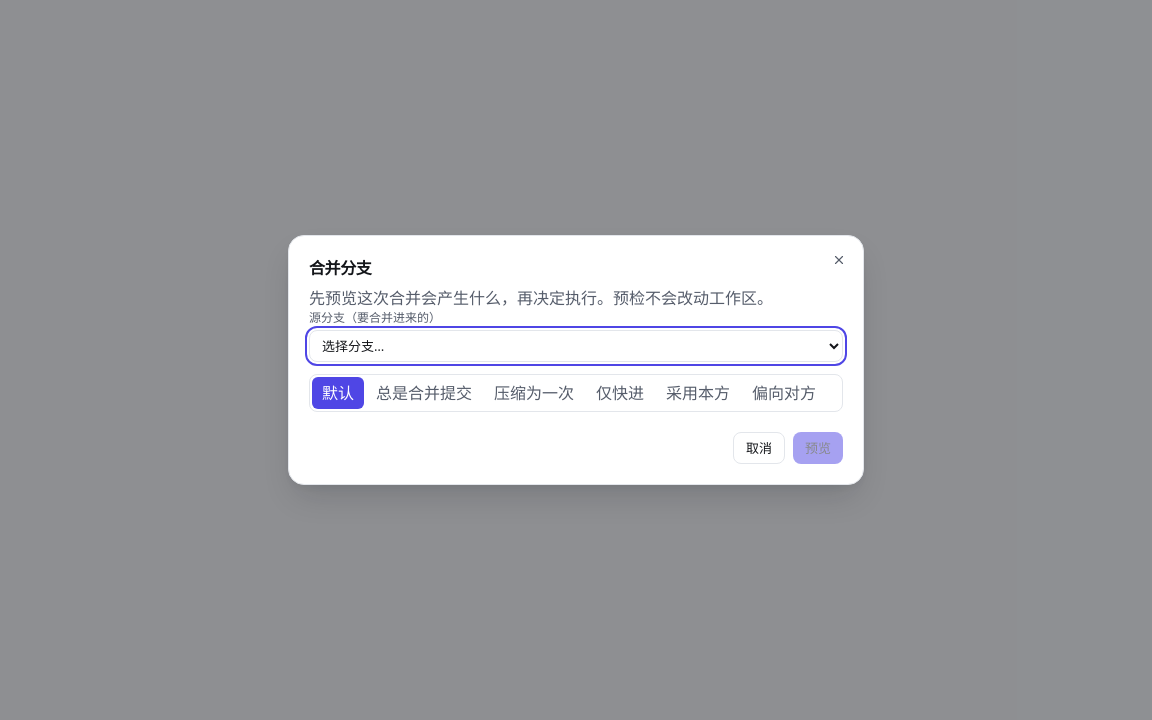
it: MergeDialog › git 太旧预检不可用时明示，不假装预检过
Step 1. Select "feature" in the dropdown with test id "merge-source" → (576, 346), box [309,330,843,362]
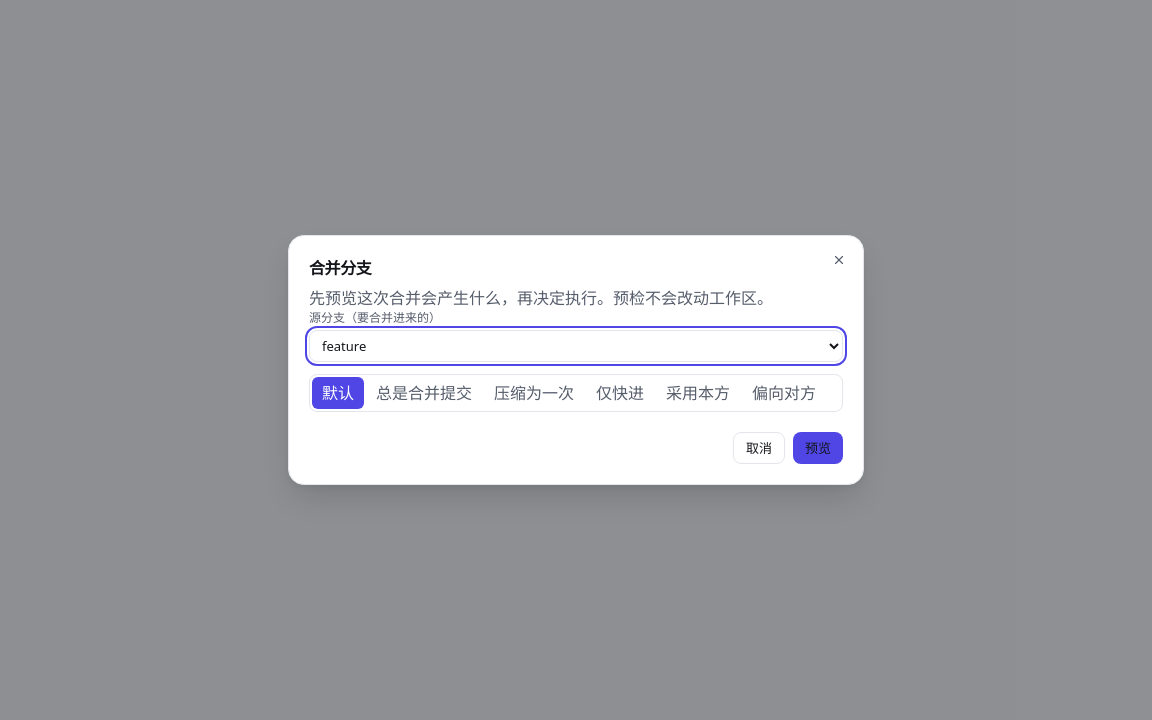
Step 2. Click the button with test id "merge-preview" → (818, 448), box [793,432,843,464]
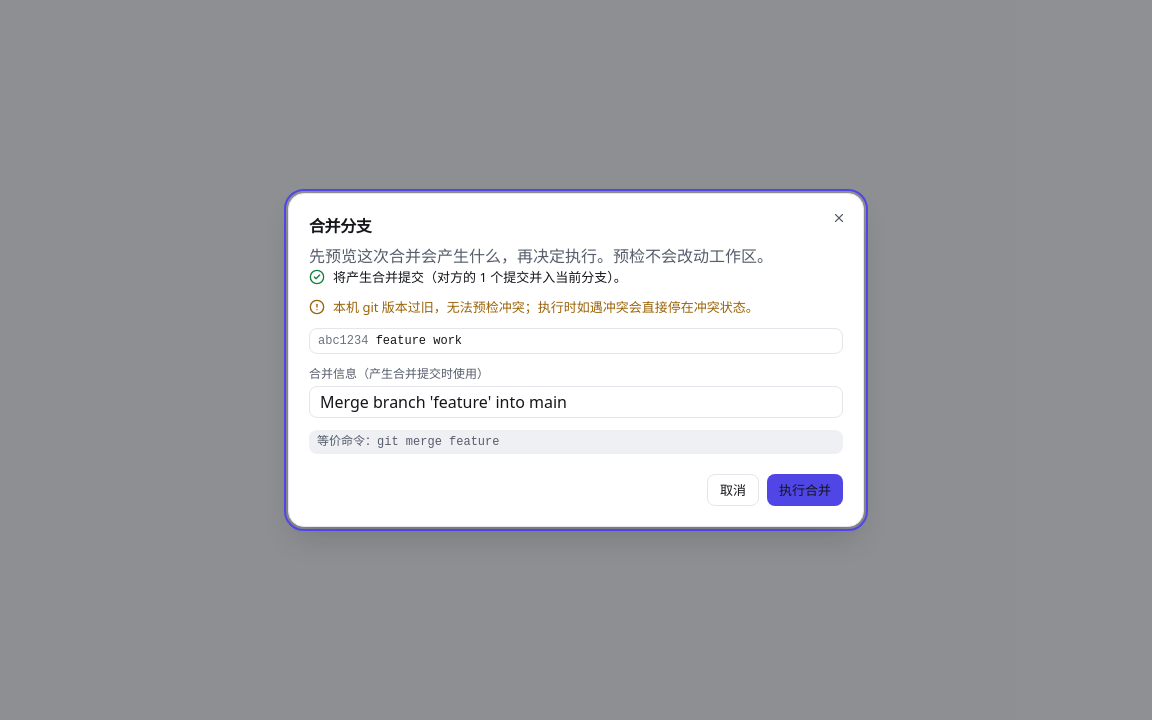
Expected: the element with test id "merge-preview-unavailable" is shown, [309,298,759,316]
